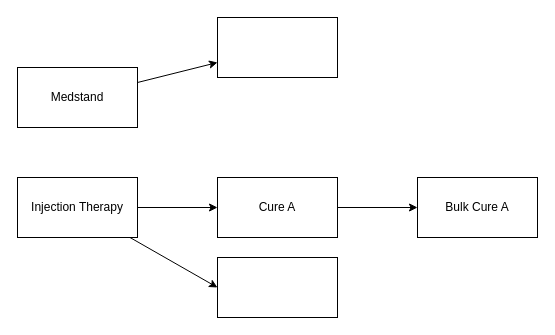
The diagram is 555 pixels wide and 335 high, and some of its shapes have lost their labels. Here are the shapes that lost their labels. From the top down, the box of each, then its label:
(216, 16, 338, 78): Vial
(216, 256, 338, 318): Cure B
